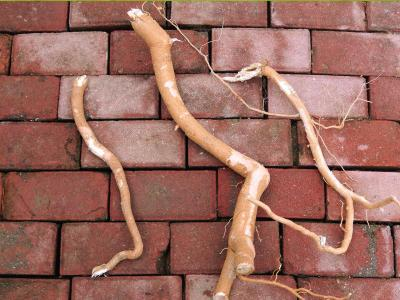Root: (128, 9, 269, 300), (256, 63, 400, 254), (71, 76, 143, 277)
